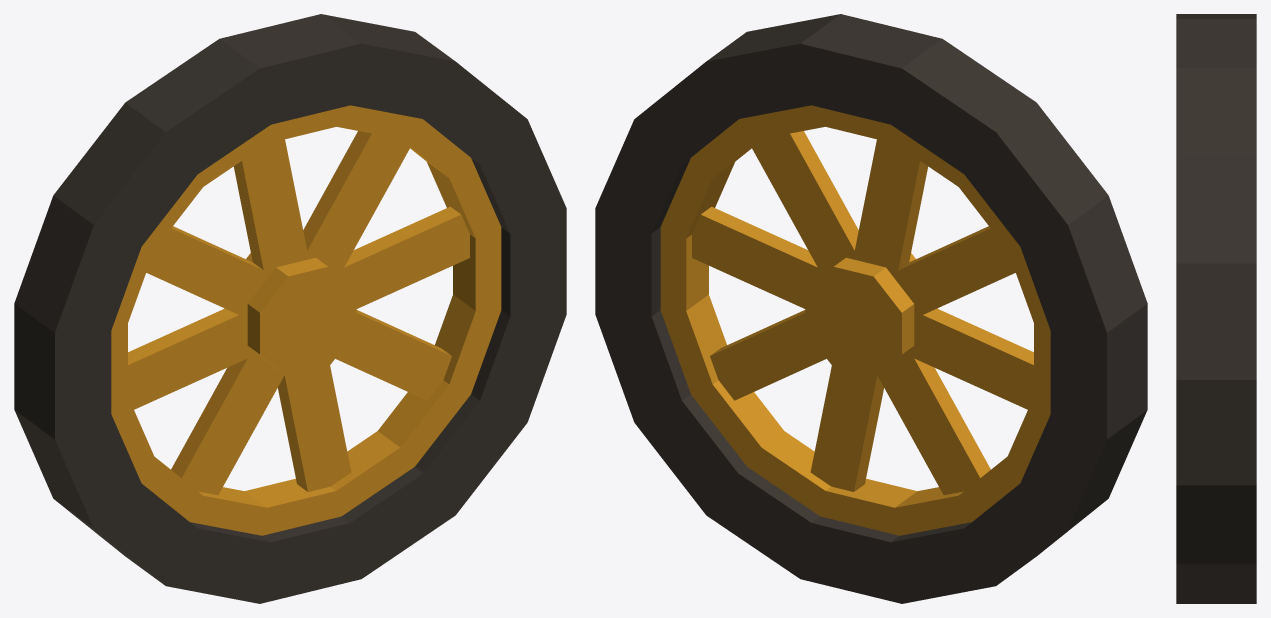
The model's file is SM_Cart_SorbetesWheel_01.fbx.
The picture shows the model from 3 angles, left to right: view 1: azimuth 30°, elevation 25°; view 2: azimuth 150°, elevation 25°; view 3: azimuth 270°, elevation 25°; orthographic projection.
Parts seen in each view (by area): view 1: SM_Cart_SorbetesWheel_01; view 2: SM_Cart_SorbetesWheel_01; view 3: SM_Cart_SorbetesWheel_01.
Part boxes in pixels (x1,y1,x2,y2): SM_Cart_SorbetesWheel_01: (14, 14, 566, 603); SM_Cart_SorbetesWheel_01: (595, 14, 1147, 603); SM_Cart_SorbetesWheel_01: (1176, 14, 1256, 603).
Size of the model in its own units: 0.5461 by 0.5461 by 0.075.
1 material, 1 textured.
